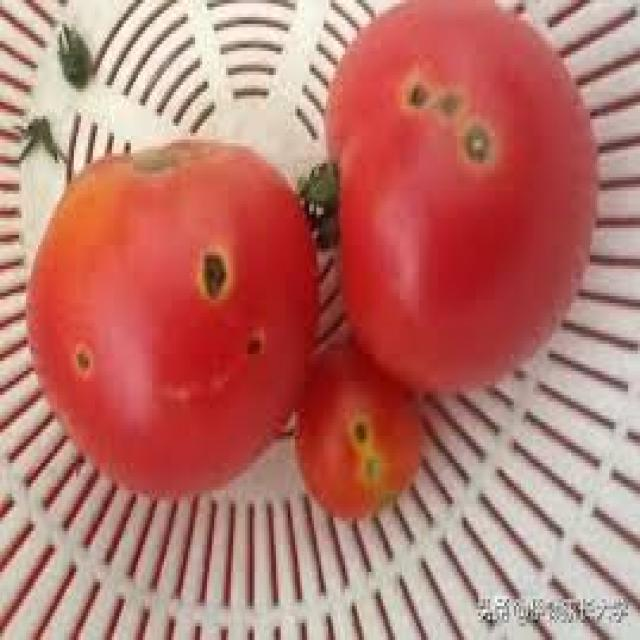organic waste: (293, 0, 597, 388), (24, 136, 316, 501), (292, 340, 418, 518), (54, 17, 86, 85), (12, 116, 55, 160)
